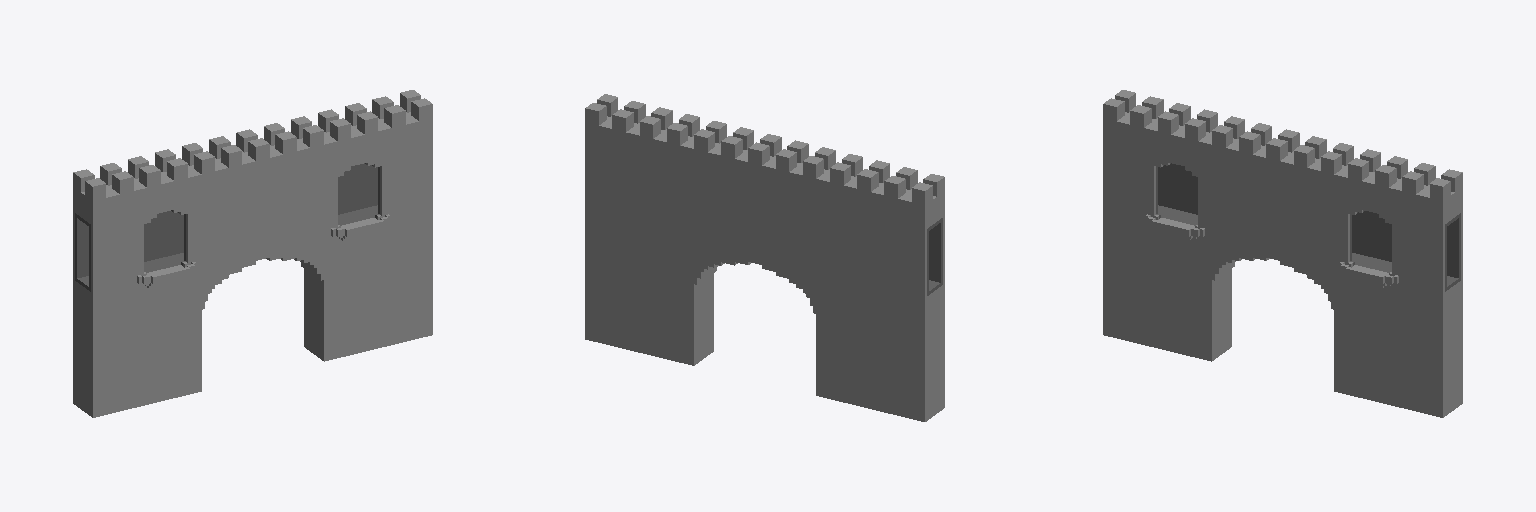
3 views of the same model, side by side, from view 1: azimuth 30°, elevation 25°; view 2: azimuth 150°, elevation 25°; view 3: azimuth 330°, elevation 25° (orthographic).
Parts seen in each view (by area): view 1: object 1; view 2: object 1; view 3: object 1.
Boxes of the visible parts, box(x1,y1,x2,y2) form: object 1: box(73, 90, 432, 417); object 1: box(585, 94, 944, 421); object 1: box(1103, 90, 1462, 417).
Size of the model in its own units: 10 by 6.5 by 1.3.
1 materials, 1 textured.